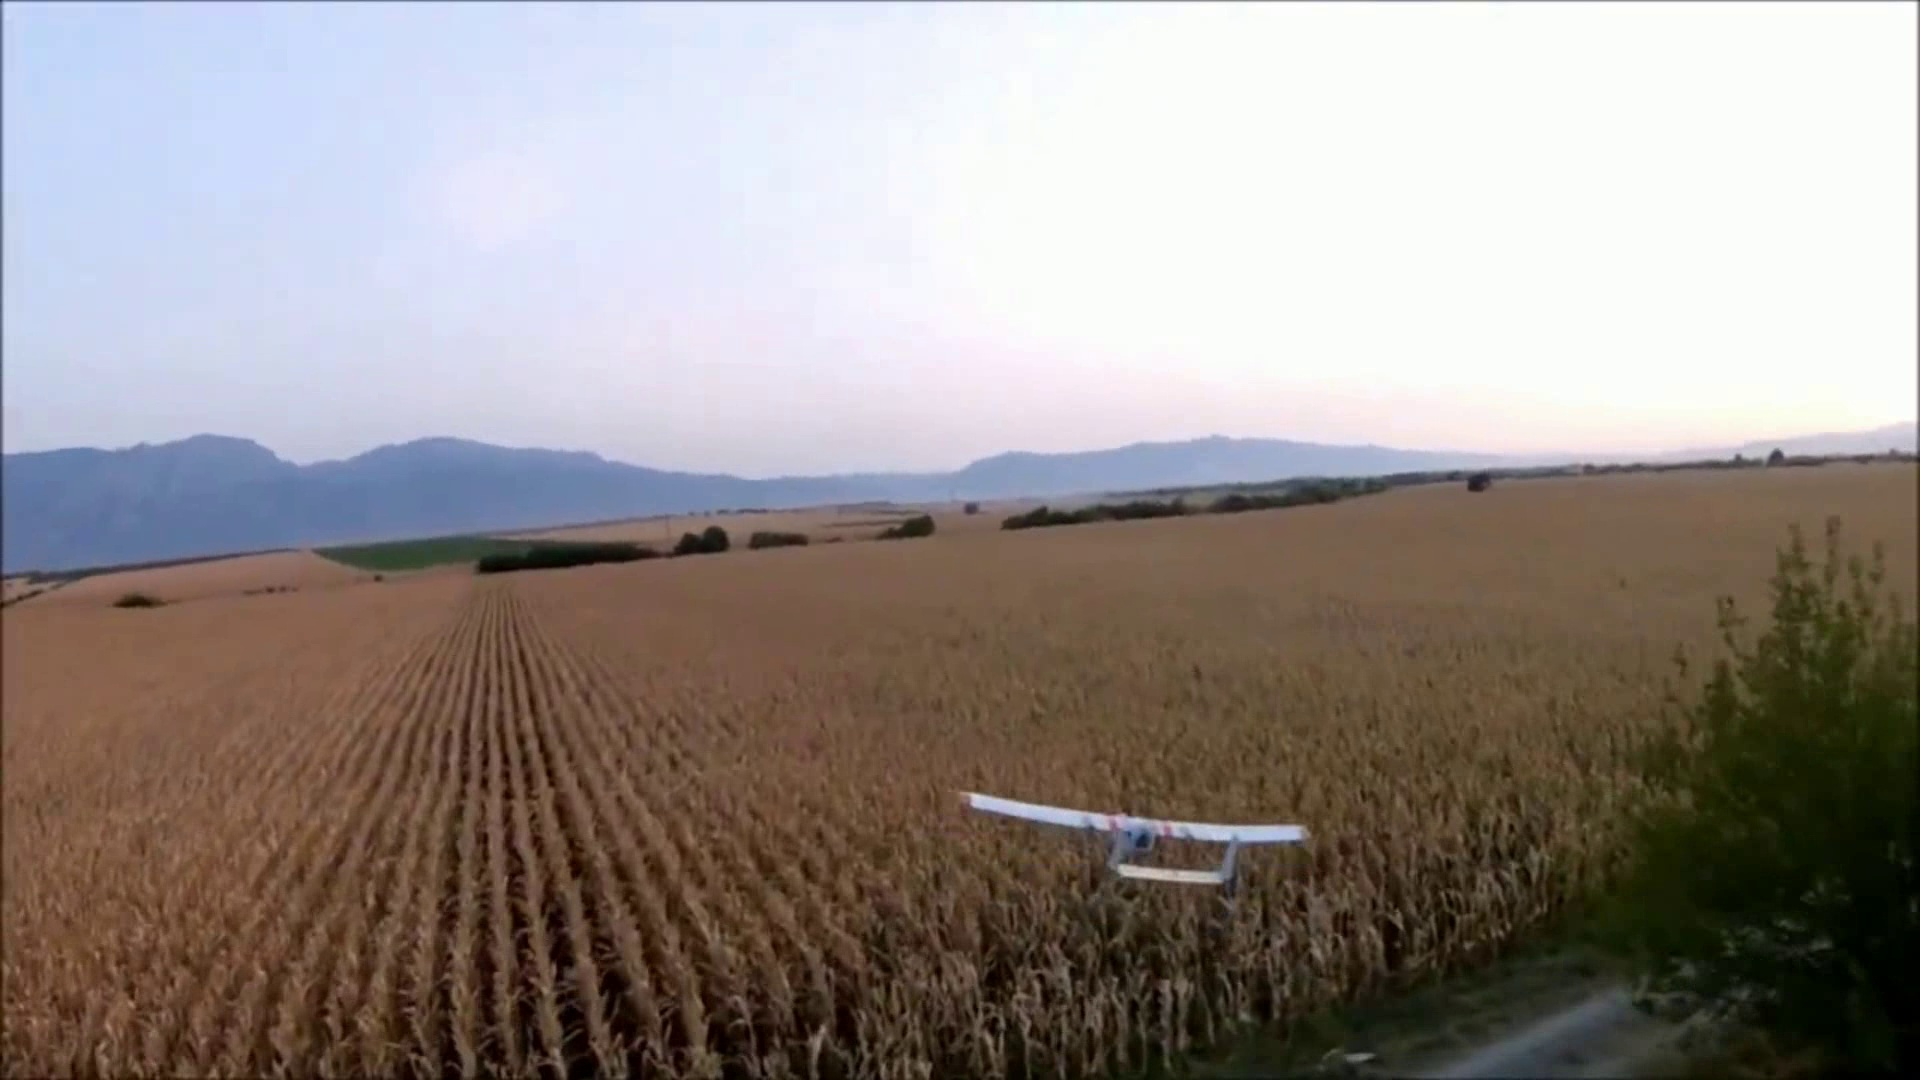airplane: (964, 793, 1311, 891)
